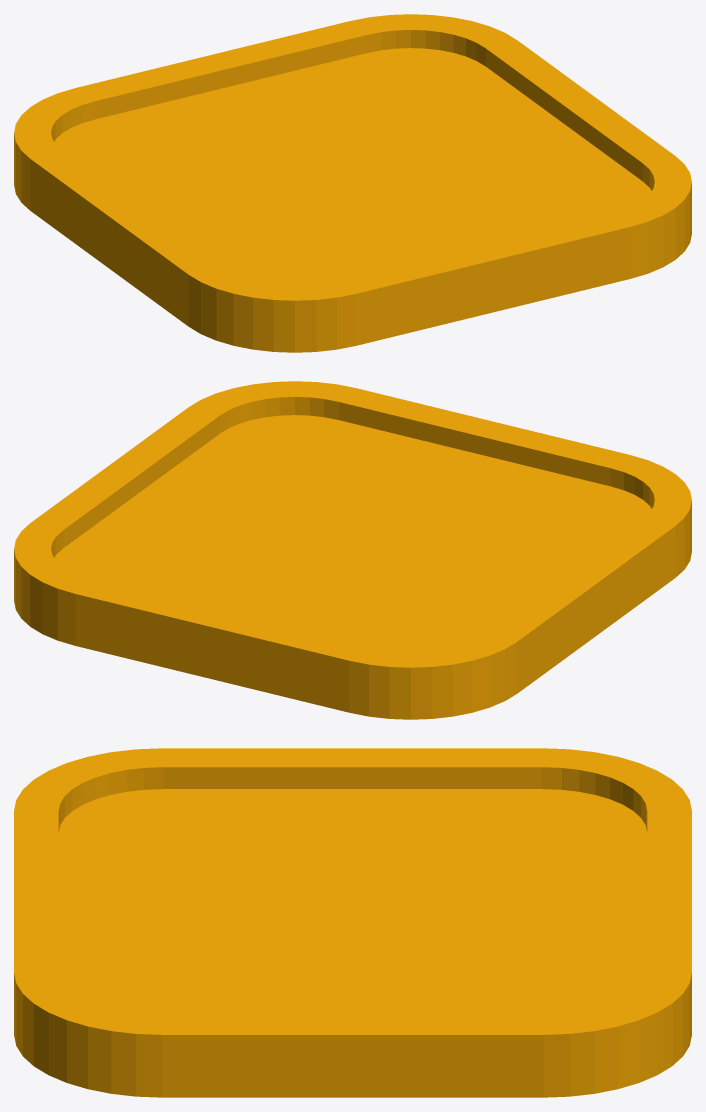
The model's file is PuzzlePiece.fbx.
The picture shows the model from 3 angles, top to bottom: view 1: azimuth 30°, elevation 25°; view 2: azimuth 150°, elevation 25°; view 3: azimuth 270°, elevation 25°; orthographic projection. The views are drawn at different scales.
Parts seen in each view (by area): view 1: Cube; view 2: Cube; view 3: Cube.
Boxes of the visible parts, <box> form: Cube: <box>14,14,691,352</box>; Cube: <box>14,381,691,719</box>; Cube: <box>14,748,691,1097</box>.
Bounding box in the file's own units: 200 × 20.43 × 200.
